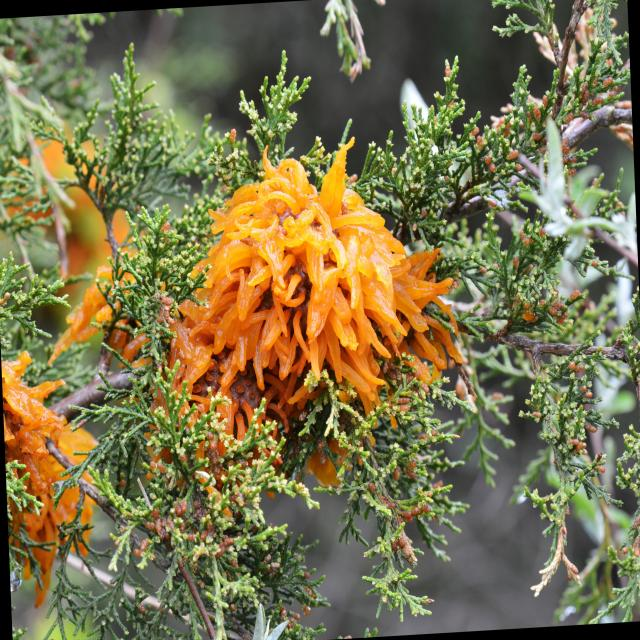Chlorosis: (152, 135, 465, 502)
